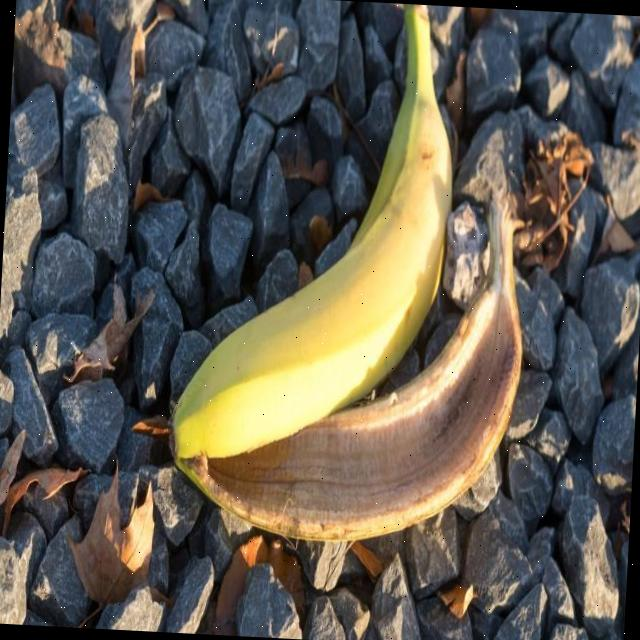banana-peel: (166, 0, 464, 475), (162, 170, 532, 552)
